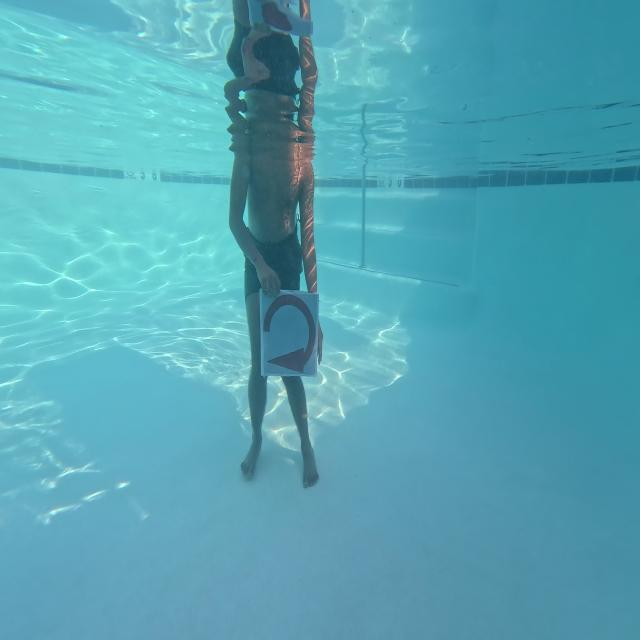red_side: (255, 285, 322, 389)
